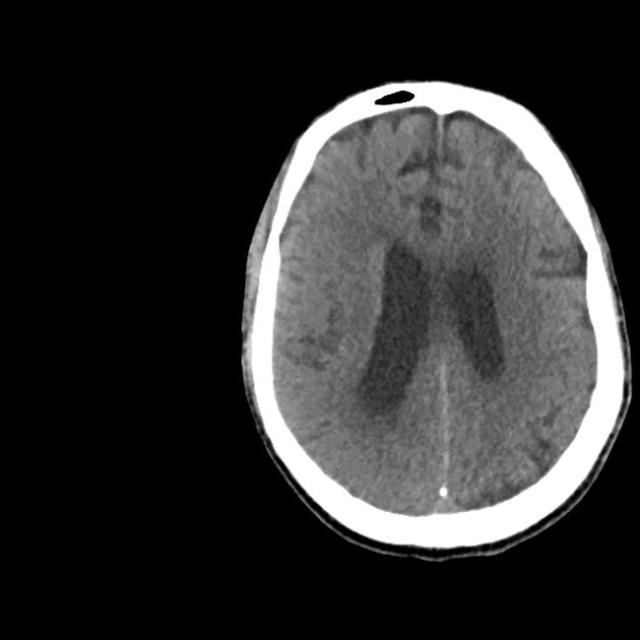lesion: (236, 77, 632, 559)
